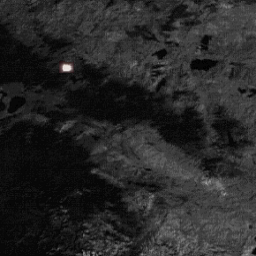Target: (61, 61, 72, 73)
